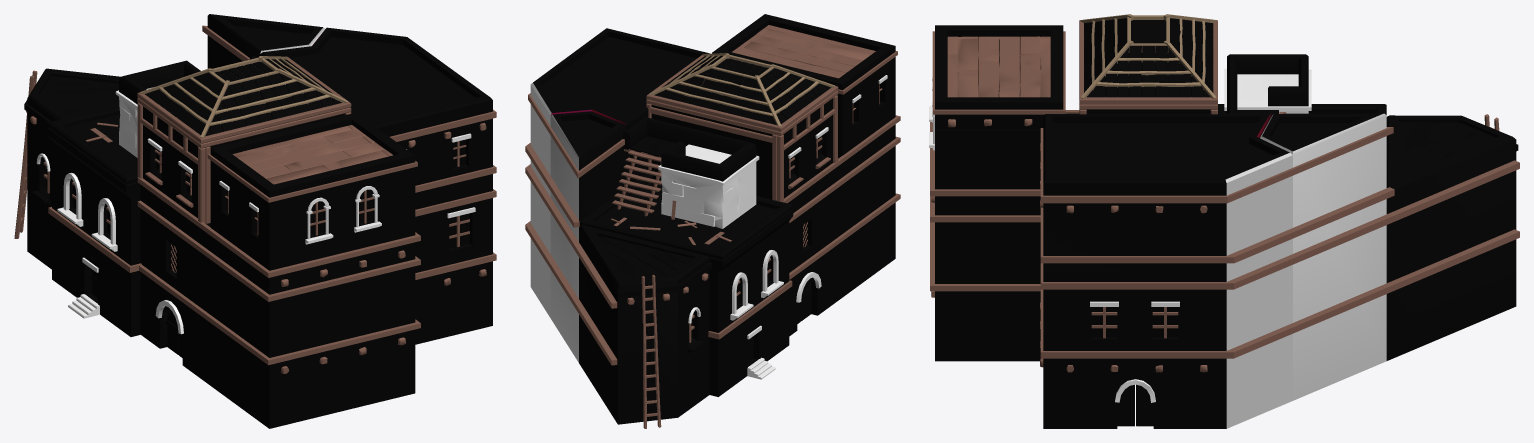
Rendered from civilian_house_15.FBX.
The picture shows the model from 3 angles, left to right: view 1: azimuth 30°, elevation 25°; view 2: azimuth 150°, elevation 25°; view 3: azimuth 270°, elevation 25°; orthographic projection. The views are drawn at different scales.
Visible parts, largest first — view 1: civilian_house_15_LOD0; view 2: civilian_house_15_LOD0; view 3: civilian_house_15_LOD0.
Boxes of the visible parts, x1=… form: civilian_house_15_LOD0: x1=14, y1=14, x2=496, y2=428; civilian_house_15_LOD0: x1=525, y1=14, x2=900, y2=428; civilian_house_15_LOD0: x1=929, y1=14, x2=1519, y2=428.
Size of what is drawn, in the model's own units: 1657 by 1418 by 2581.
